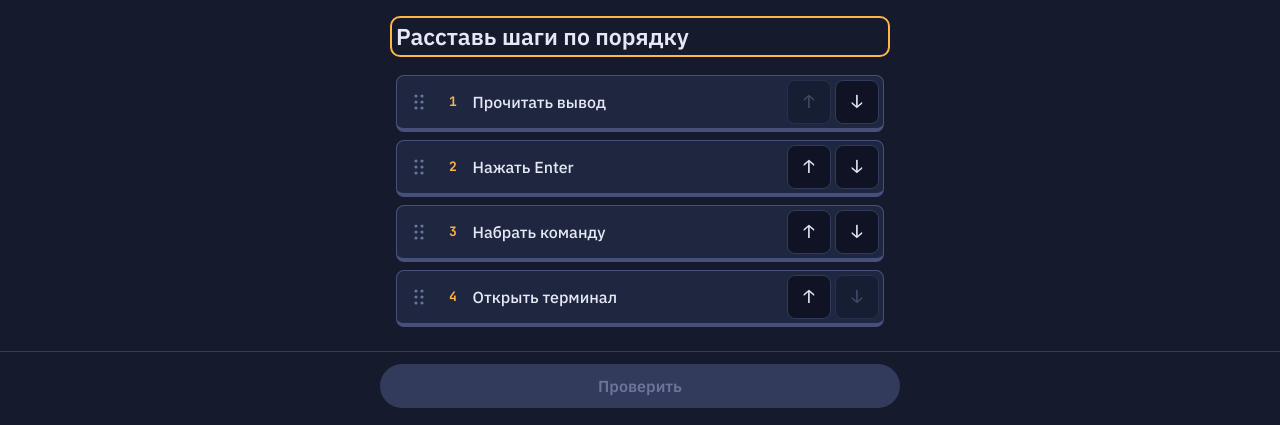
Test: OrderStepsView › starts in a wrong order with «Проверить» disabled; ↓ on the first step swaps it with the second
Expected: the button "Проверить" is disabled, [380,364,900,408]
Click the button "↓" in the row of "Прочитать вывод" at (857, 102), box [835,80,879,124]
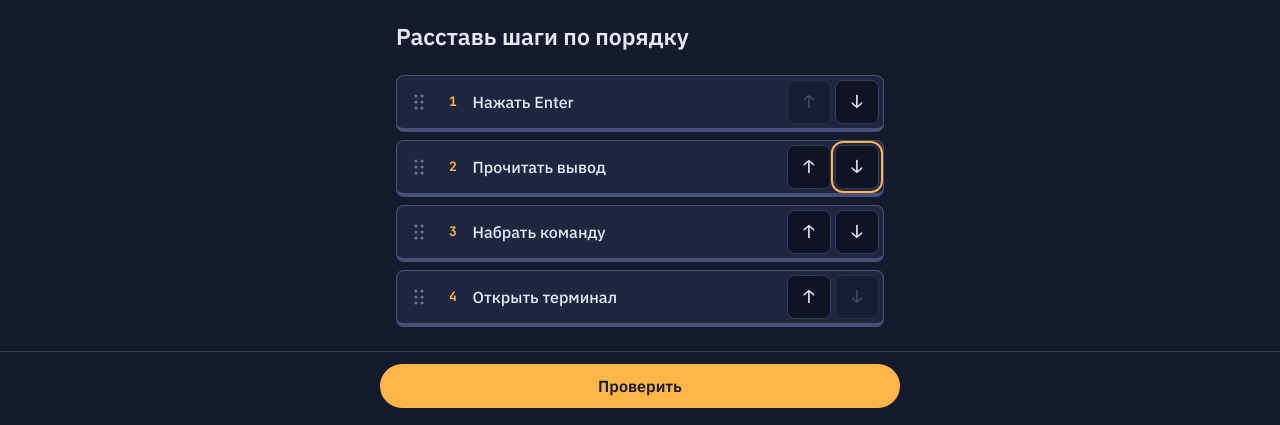
Expected: the button "Проверить" is enabled, [380,364,900,408]
